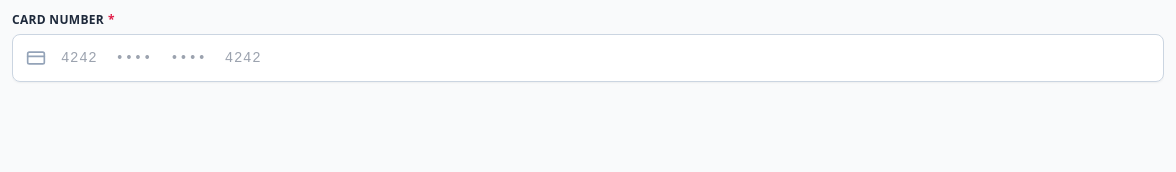
Test: VisaPay Checkout Usability & Field Interactions › should display Checksum Invalid badge when Luhn checksum fails
Note: 4242 4242 4242 4243 fails Luhn checksum
Type "4242424242424243" into the field labelled "Card Number*".
click(588, 58); type("4242424242424243")  # box [12,34,1164,82]
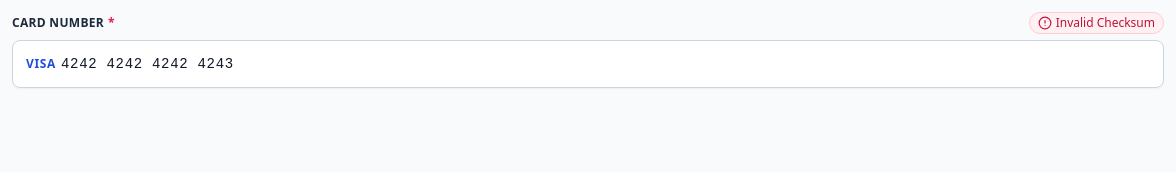
Check: the text "Invalid Checksum" is shown, box [1029,12,1164,34]
